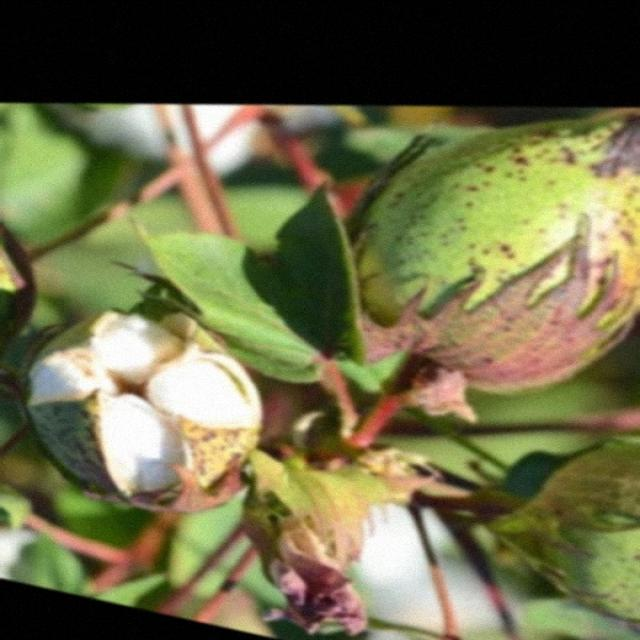Cotton Blossom: (268, 510, 362, 638)
Early Boll: (376, 102, 640, 388)
Split Cotton Boll: (25, 315, 261, 504)
